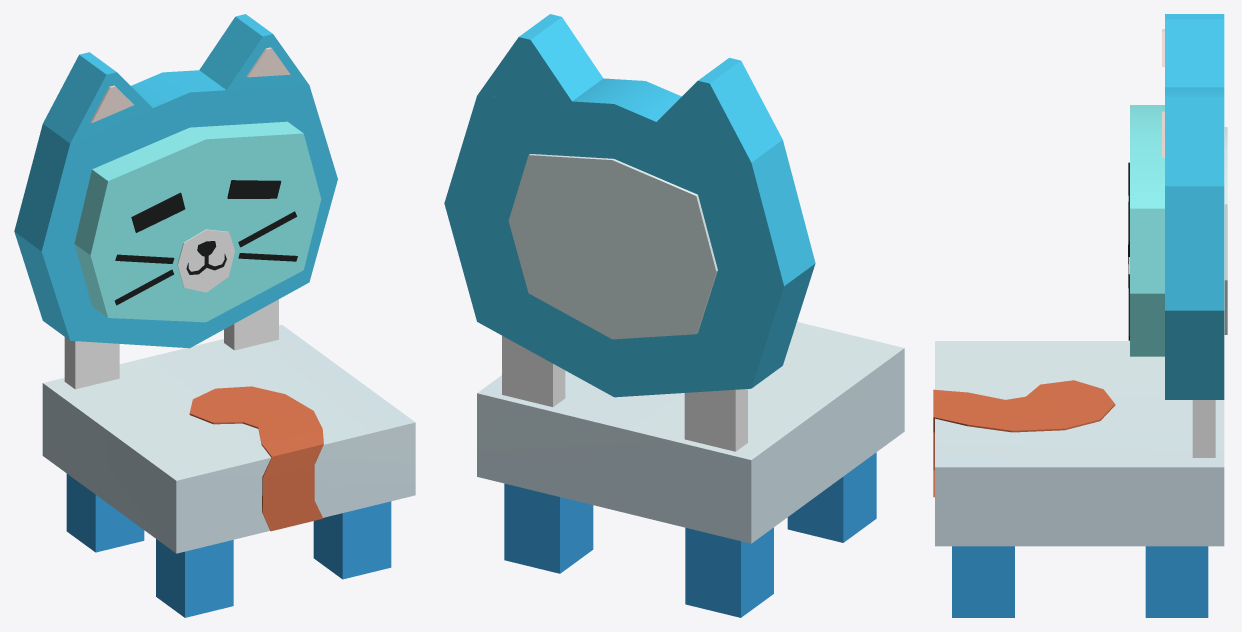
The model's file is Ghe 1.008.gltf.
The picture shows the model from 3 angles, left to right: view 1: azimuth 30°, elevation 25°; view 2: azimuth 150°, elevation 25°; view 3: azimuth 270°, elevation 25°; orthographic projection. The views are drawn at different scales.
Visible parts, largest first — view 1: Ghe 1.008; view 2: Ghe 1.008; view 3: Ghe 1.008.
Part boxes in pixels (x1,y1,x2,y2): Ghe 1.008: [14, 14, 415, 617]; Ghe 1.008: [444, 14, 904, 617]; Ghe 1.008: [933, 14, 1227, 617].
Size of the model in its own units: 1.92 by 2.89 by 1.53.
1 material, 1 textured.
